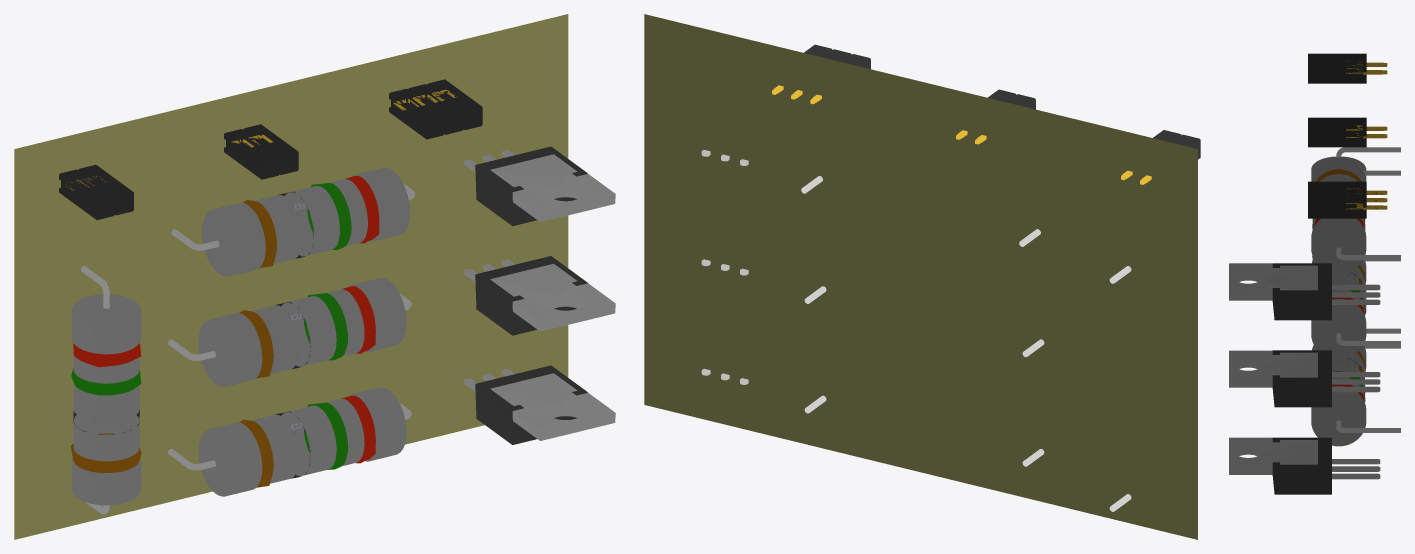
Rendered from OBJ_PCB_分压定理.obj.
3 views of the same model, side by side, from view 1: azimuth 30°, elevation 25°; view 2: azimuth 150°, elevation 25°; view 3: azimuth 270°, elevation 25° (orthographic). The views are drawn at different scales.
Bounding box in the file's own units: 290 × 196 × 98.03.
